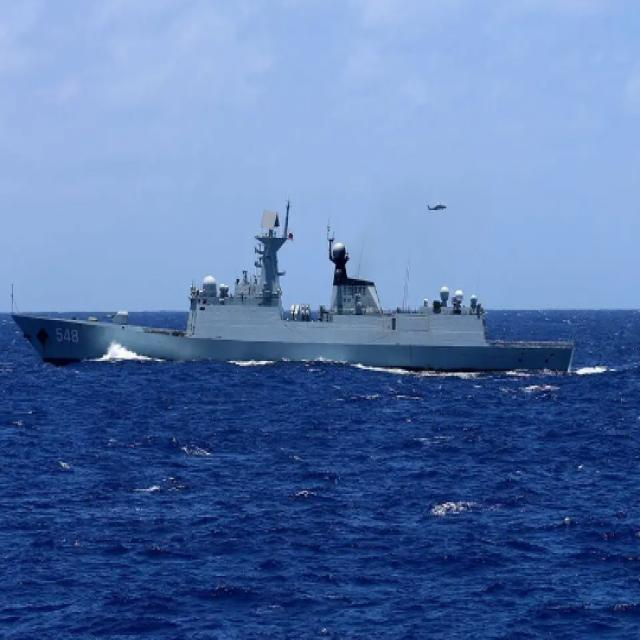navalvessels: (10, 200, 577, 388)
